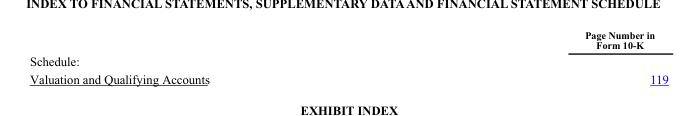table: (28, 28, 667, 85)
table column: (28, 28, 396, 85), (396, 28, 667, 85)
table column header: (28, 28, 667, 51)
table projected row header: (28, 51, 667, 69)
table row: (28, 28, 667, 51), (28, 51, 667, 69), (28, 69, 667, 85)
